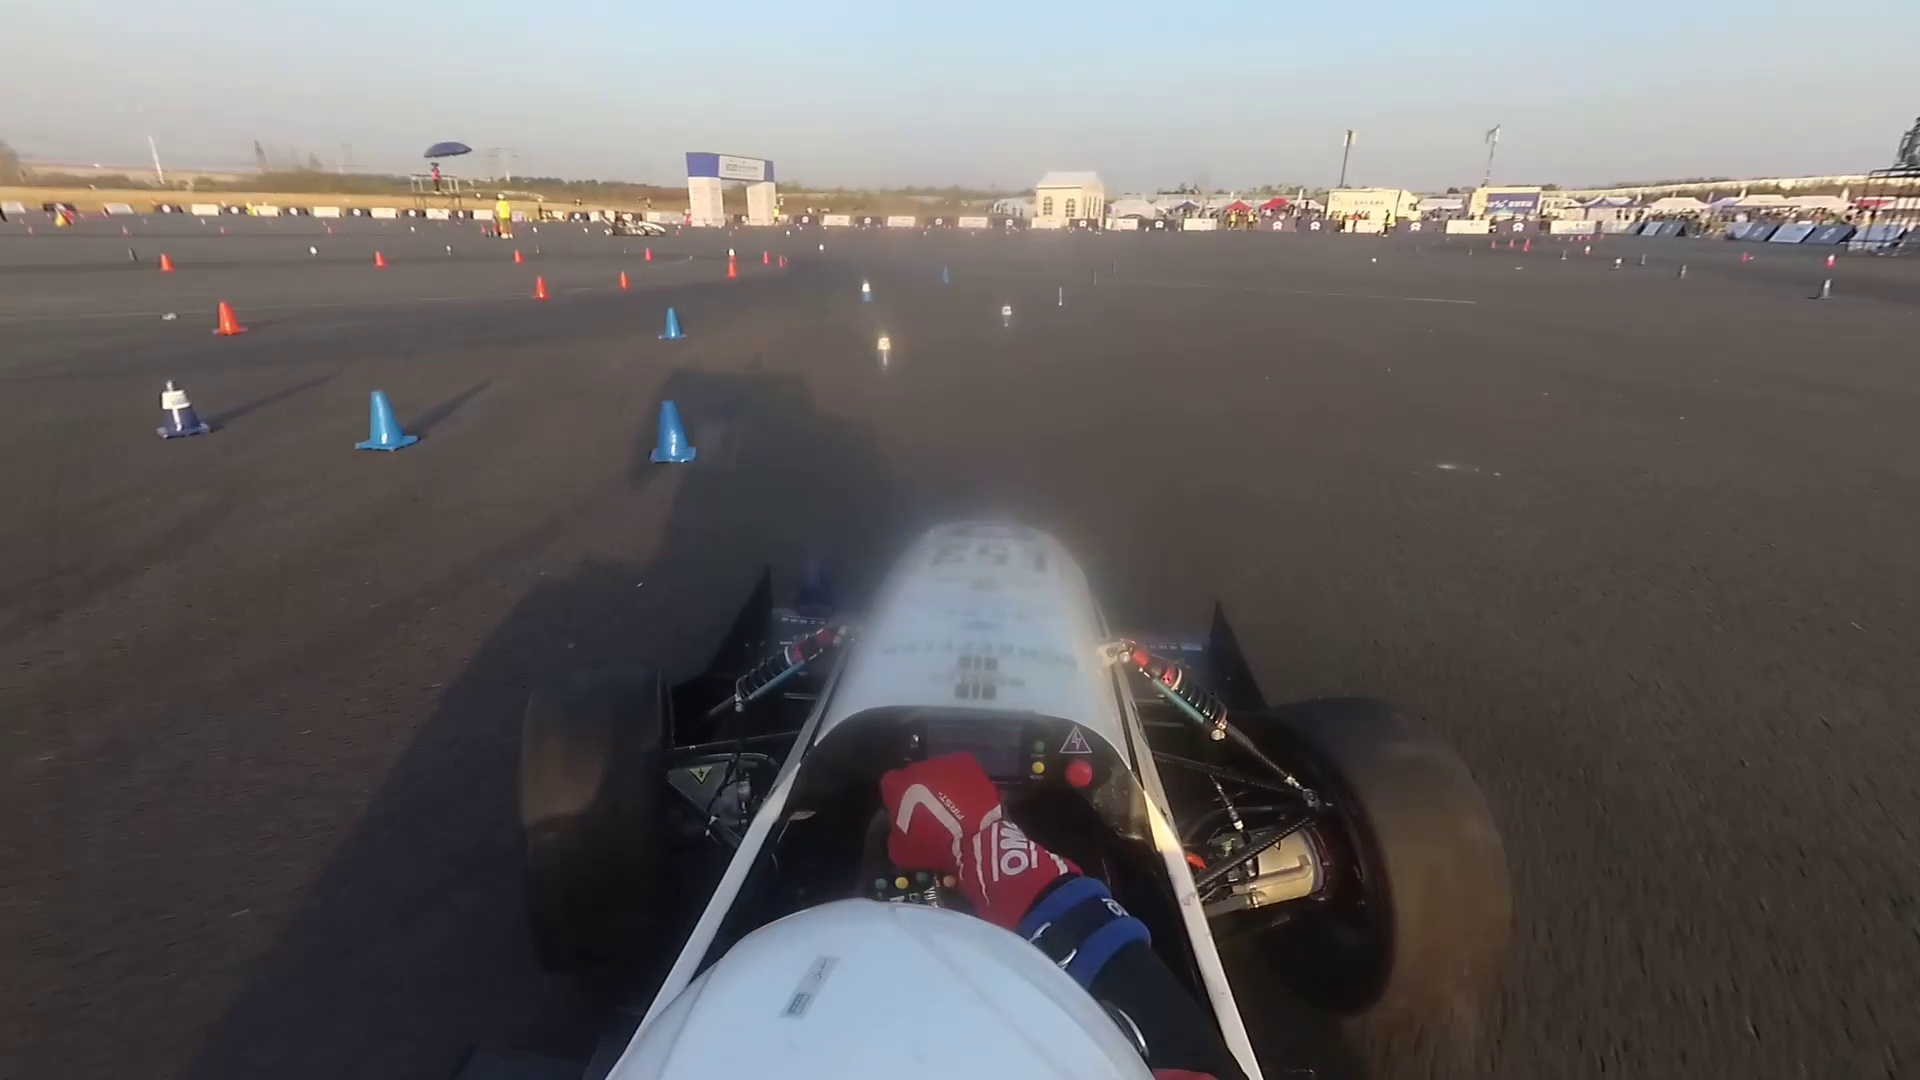blue_cone: (133, 357, 214, 447), (353, 377, 419, 464), (644, 396, 702, 473), (862, 311, 901, 378), (996, 287, 1029, 353), (654, 294, 694, 345), (861, 264, 886, 313), (934, 252, 956, 291), (1673, 260, 1691, 284), (1054, 284, 1068, 310), (1556, 244, 1572, 262), (443, 240, 458, 260), (1634, 251, 1648, 269), (1110, 255, 1121, 280), (127, 245, 138, 264), (1091, 265, 1100, 289), (309, 244, 320, 261), (1613, 255, 1621, 273), (1468, 245, 1474, 258)
red_cone: (210, 301, 251, 339), (520, 266, 554, 309), (371, 245, 393, 280), (154, 249, 181, 277), (508, 244, 527, 270), (618, 266, 636, 295), (638, 244, 658, 265), (727, 258, 740, 282), (1522, 233, 1536, 255), (760, 245, 771, 266), (22, 222, 37, 237), (779, 251, 789, 272), (326, 224, 340, 237), (1489, 236, 1501, 252), (1509, 235, 1518, 253), (1585, 244, 1596, 258), (120, 222, 127, 237)
